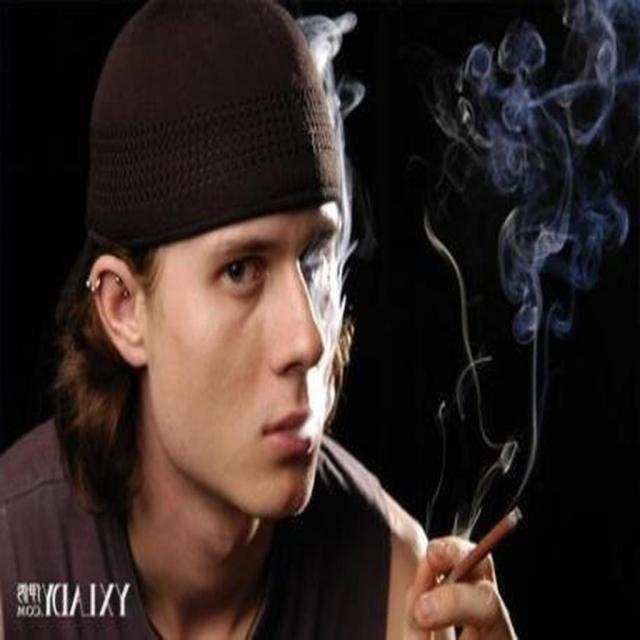smoking: (68, 134, 545, 636)
